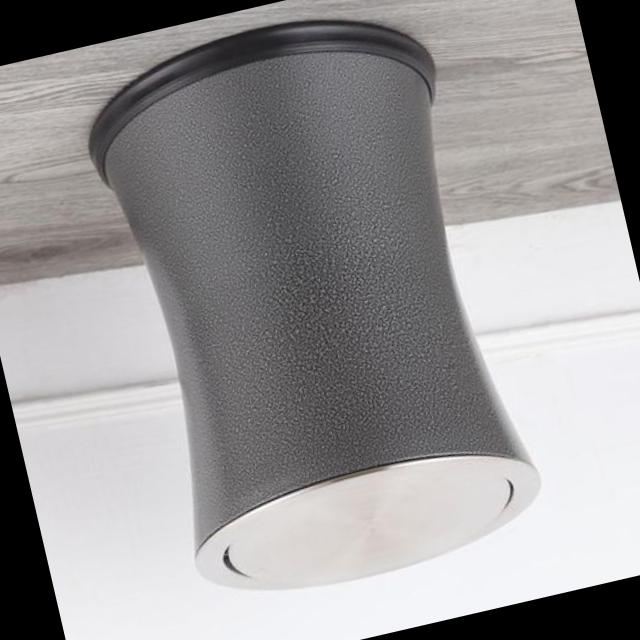dustbin: (65, 0, 560, 624)
